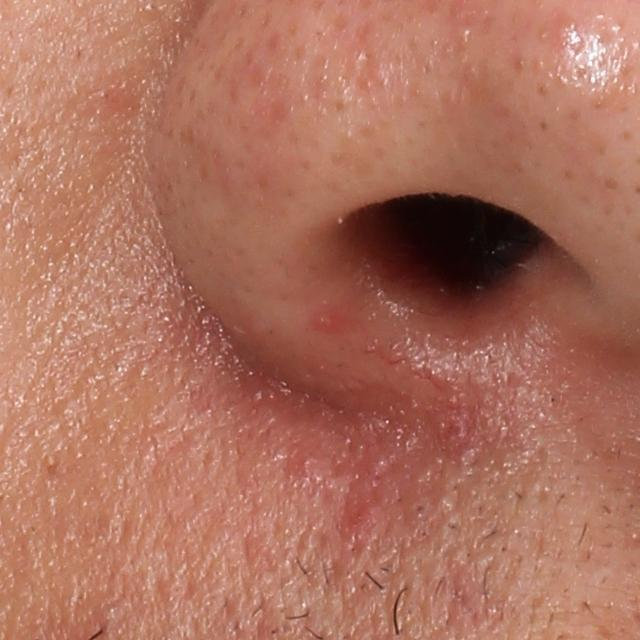comedo: (405, 499, 435, 520)
papule: (309, 305, 344, 331)
